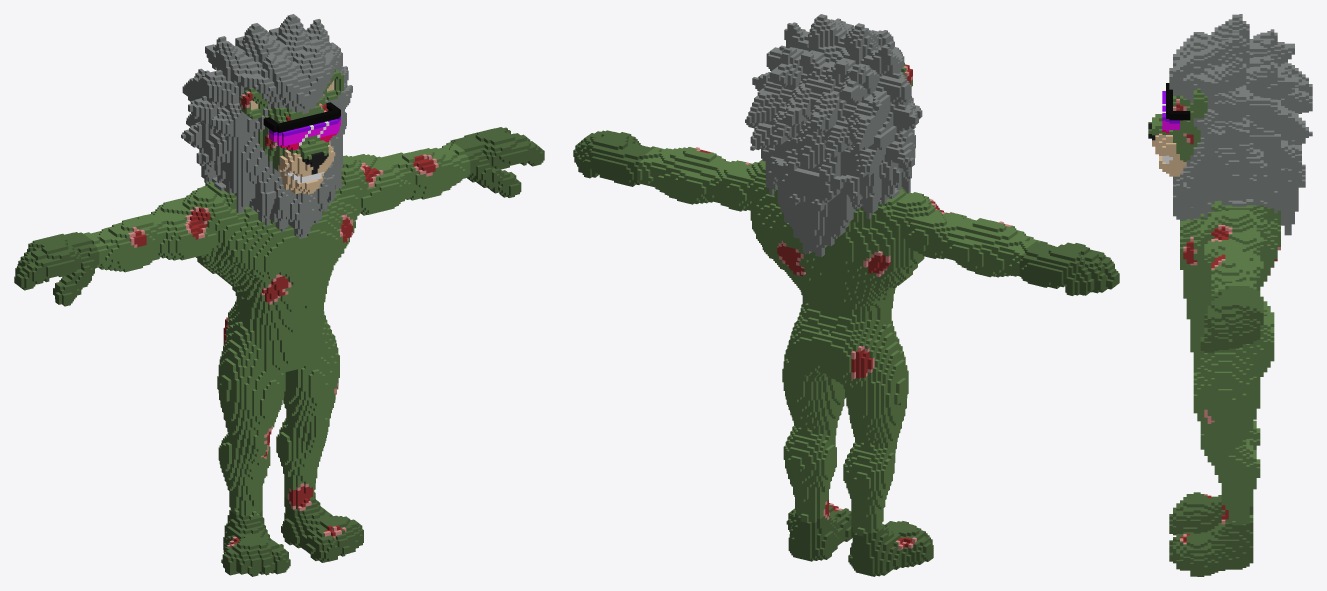
Rendered from 1046-DfvxY4Dp.glb.
The picture shows the model from 3 angles, left to right: view 1: azimuth 30°, elevation 25°; view 2: azimuth 150°, elevation 25°; view 3: azimuth 270°, elevation 25°; orthographic projection. The views are drawn at different scales.
Parts seen in each view (by area): view 1: big_smile; view 2: big_smile; view 3: big_smile.
Part boxes in pixels (x1,y1,x2,y2): big_smile: (14,14,544,576); big_smile: (573,14,1119,576); big_smile: (1148,14,1312,576).
Size of the model in its own units: 17.2 by 16.5 by 4.7.
4 materials, 4 textured.
